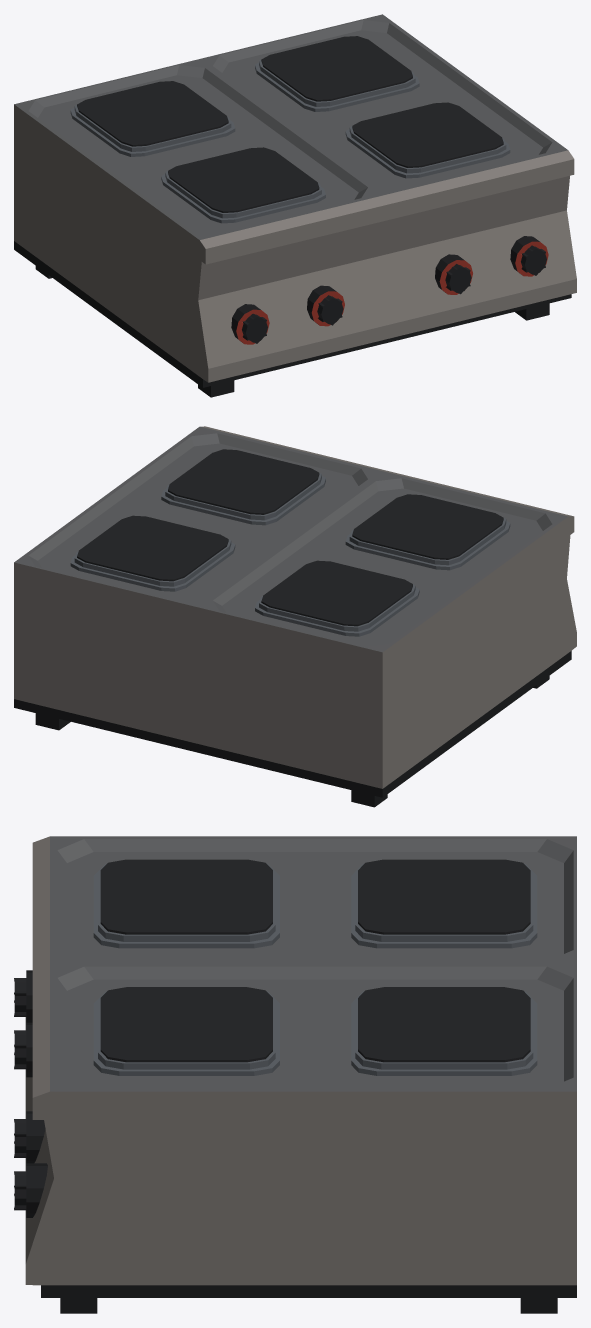
The model's file is tabletopgasstovelarge_01_A.gltf.
3 renders of one model, top to bottom at view 1: azimuth 30°, elevation 25°; view 2: azimuth 150°, elevation 25°; view 3: azimuth 270°, elevation 25°, orthographic. The views are drawn at different scales.
Parts seen in each view (by area): view 1: tabletopgasstovelarge_01_A, Swithcfortabletopgasstovelarge_03_A, Swithcfortabletopgasstovelarge_04_A, Swithcfortabletopgasstovelarge_01_A, Swithcfortabletopgasstovelarge_02_A; view 2: tabletopgasstovelarge_01_A; view 3: tabletopgasstovelarge_01_A.
Boxes of the visible parts, x1=… form: tabletopgasstovelarge_01_A: x1=14, y1=14, x2=576, y2=397; Swithcfortabletopgasstovelarge_03_A: x1=445, y1=264, x2=471, y2=294; Swithcfortabletopgasstovelarge_04_A: x1=521, y1=245, x2=546, y2=275; Swithcfortabletopgasstovelarge_01_A: x1=242, y1=313, x2=267, y2=343; Swithcfortabletopgasstovelarge_02_A: x1=317, y1=295, x2=343, y2=325; tabletopgasstovelarge_01_A: x1=14, y1=426, x2=576, y2=807; tabletopgasstovelarge_01_A: x1=25, y1=836, x2=576, y2=1313.
Bounding box in the file's own units: 0.5 × 0.216 × 0.4661.
1 material, 1 textured.
